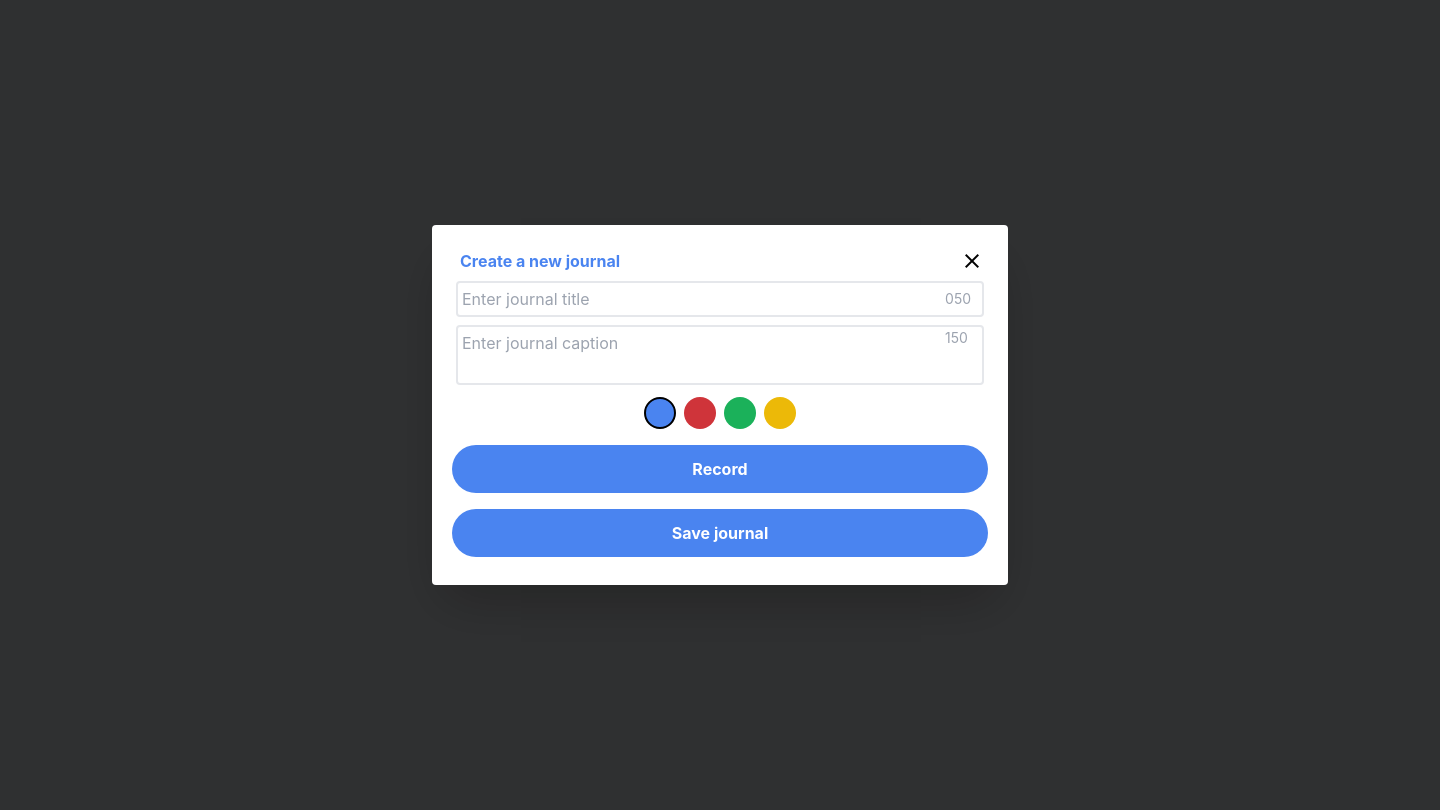
Scenario: JournalModal: Properly rendering when creating a journal › should render the stop button after clicking the record button
Step 1. Click the button "Record" → {"x": 720, "y": 469}, box [452,445,988,493]
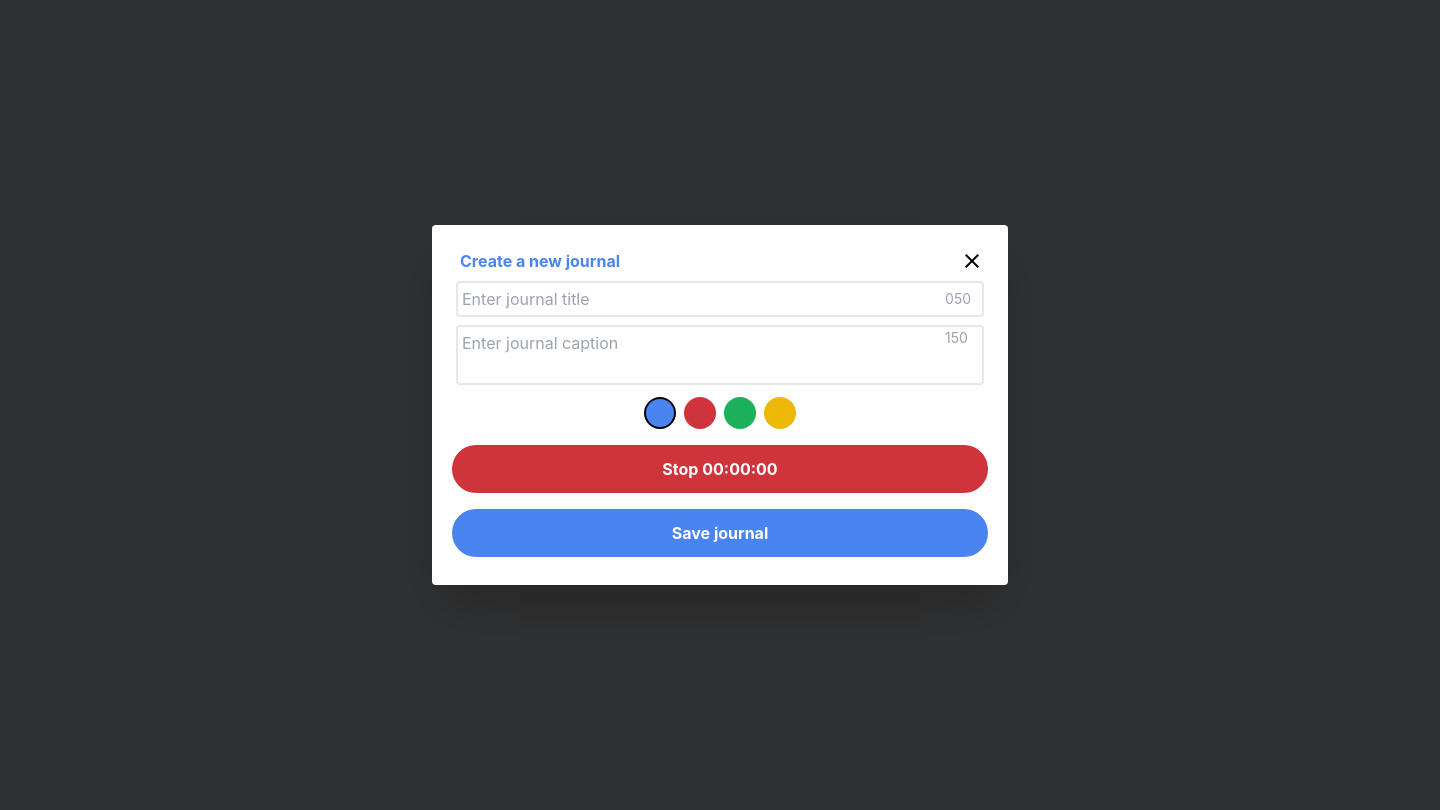
Expected: the button "Stop 00:00:00" is shown, [452,445,988,493]
